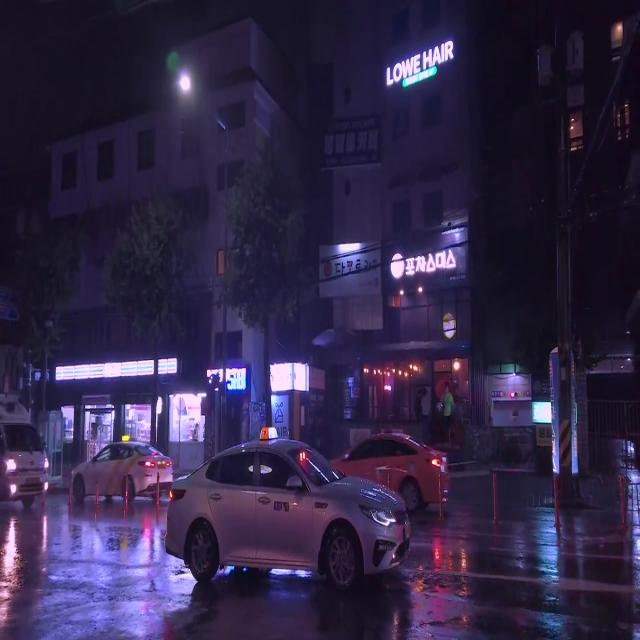Car: (165, 444, 410, 587), (70, 439, 167, 501)
